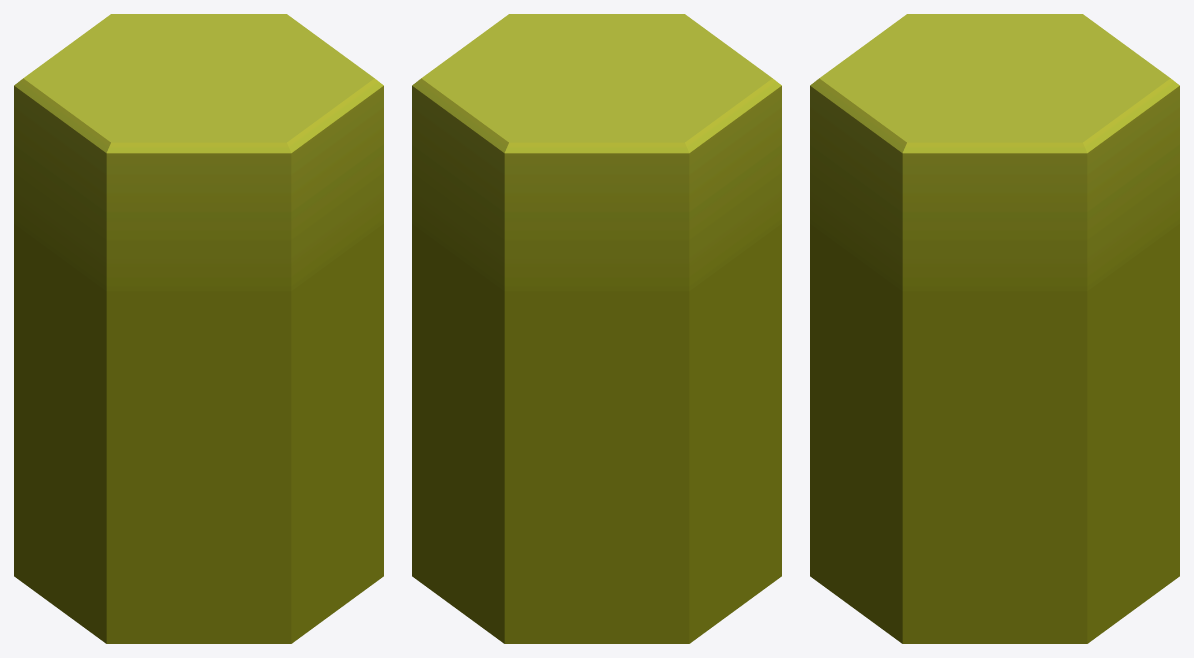
The model's file is hex_grass_thick.glb.
3 views of the same model, side by side, from view 1: azimuth 30°, elevation 25°; view 2: azimuth 150°, elevation 25°; view 3: azimuth 270°, elevation 25° (orthographic).
Parts seen in each view (by area): view 1: hex_grass3; view 2: hex_grass3; view 3: hex_grass3.
Part boxes in pixels (left/top/right/bottom): hex_grass3: left=14, top=14, right=383, bottom=643; hex_grass3: left=412, top=14, right=781, bottom=643; hex_grass3: left=810, top=14, right=1179, bottom=643.
Size of the model in its own units: 2 by 3.43 by 2.31.
Materials: 1 (1 with a texture image).
